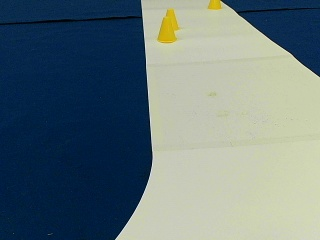cone: (156, 16, 176, 42), (160, 11, 178, 35), (165, 9, 178, 29), (207, 0, 220, 8)
